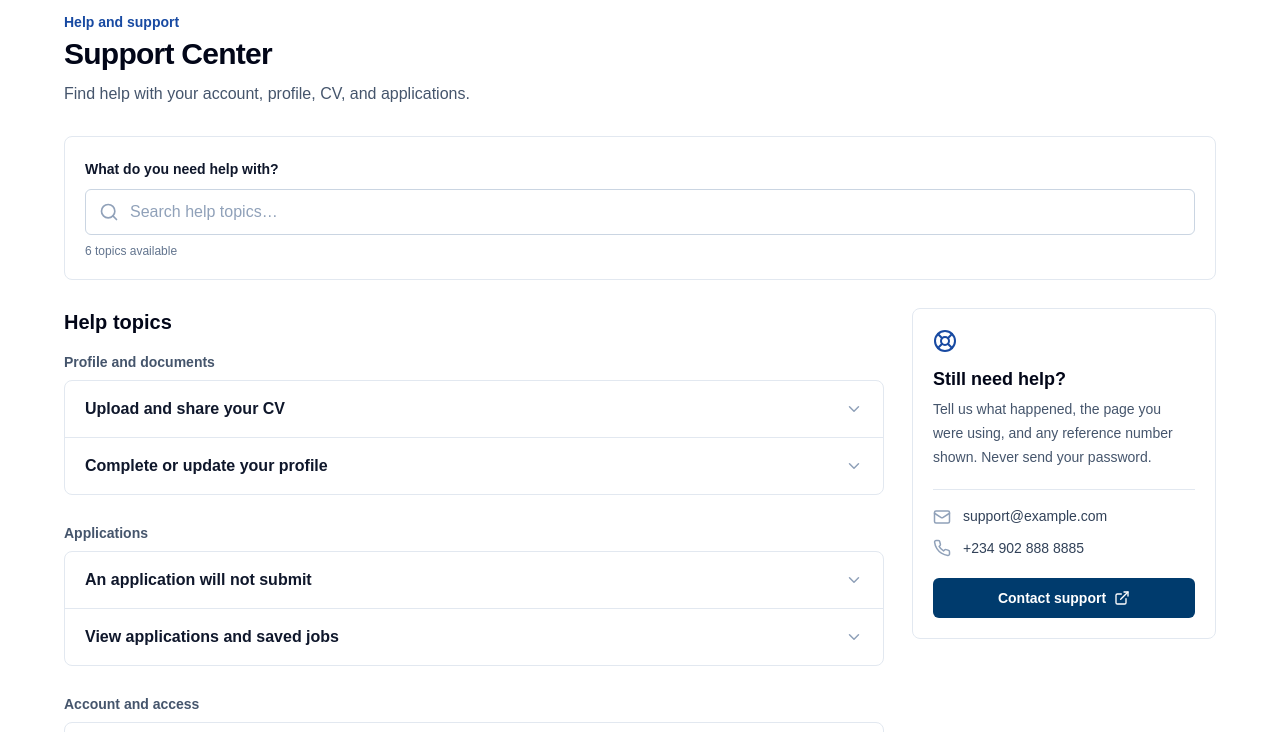
Test: SupportCenter › filters help topics and provides a clear no-results state
Type "password" into the search field labelled "What do you need help with?" at (640, 212), box left=85, top=189, right=1195, bottom=235
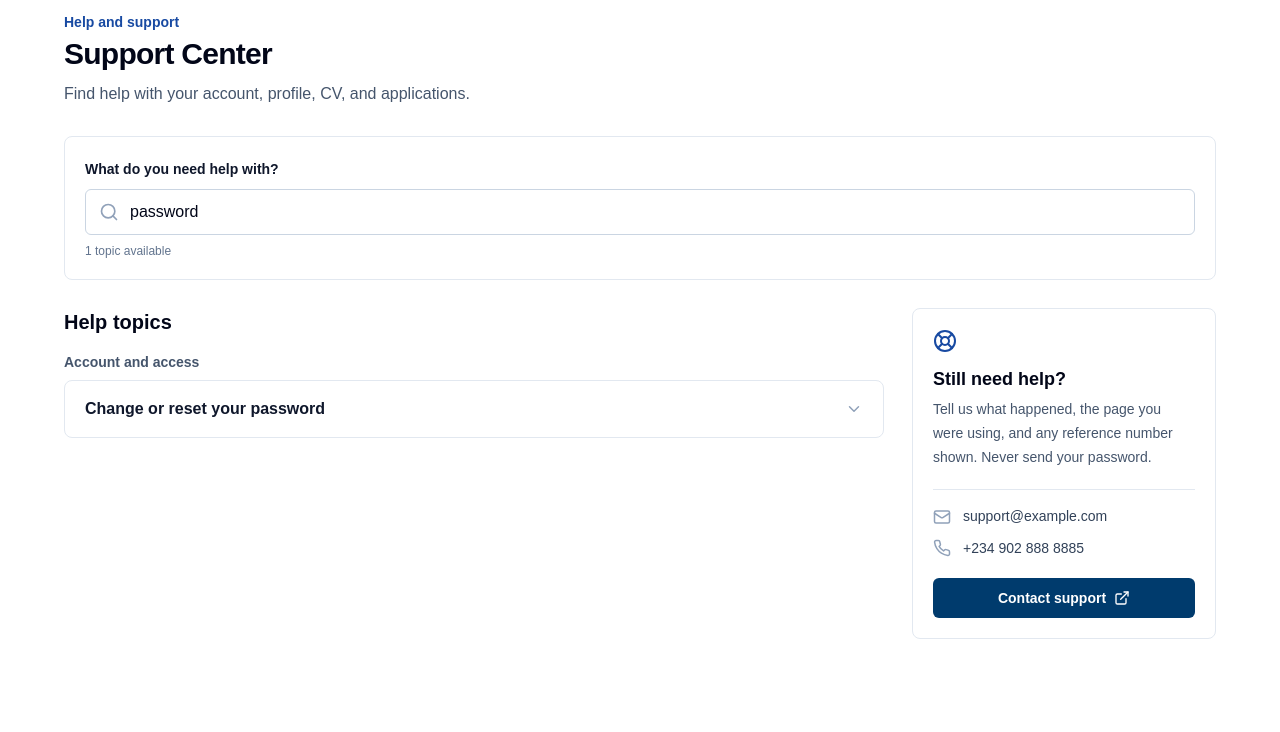
Expected: the text "Change or reset your password" is shown, left=85, top=397, right=325, bottom=421
Expected: the heading "Upload and share your CV" is gone
Replace the text in the search field labelled "What do you need help with?" with "something impossible to find" at (640, 212), box left=85, top=189, right=1195, bottom=235
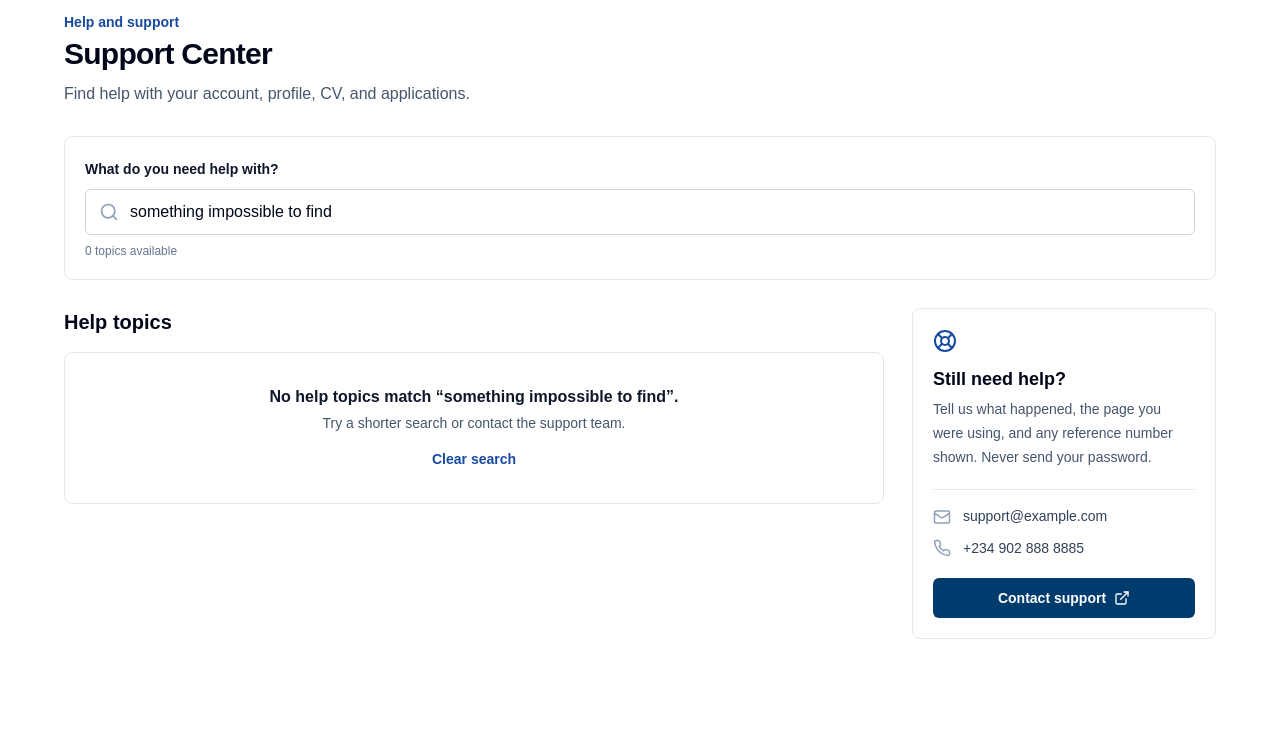
Expected: the text "No help topics match “something impossible to find”." is shown, left=270, top=388, right=678, bottom=405
